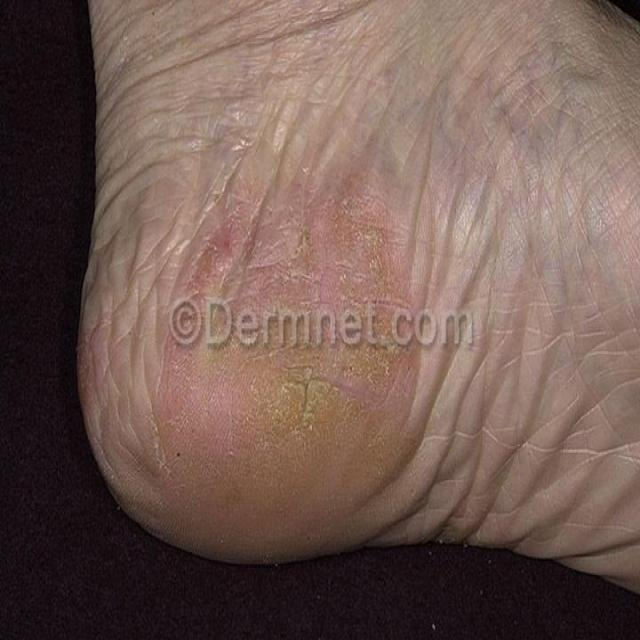19: (0, 0, 1, 2)
liquenificacion 1: (78, 23, 639, 565)
liquenificacion 2: (78, 23, 639, 565)
